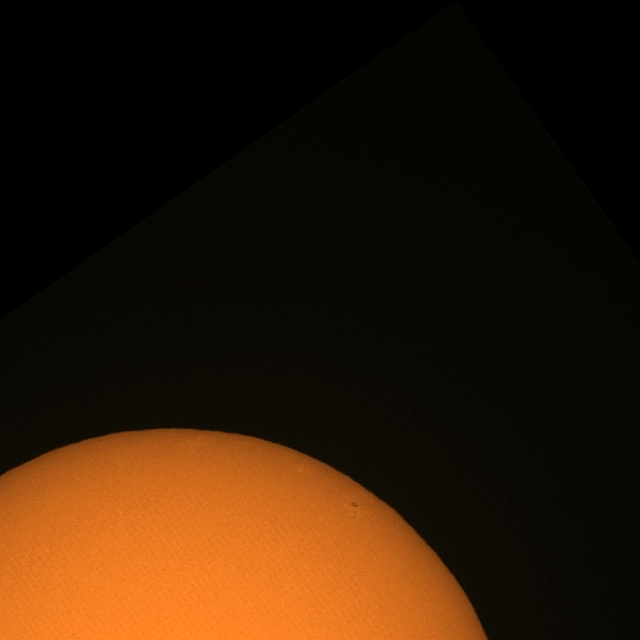sunspot: (350, 500, 358, 510)
